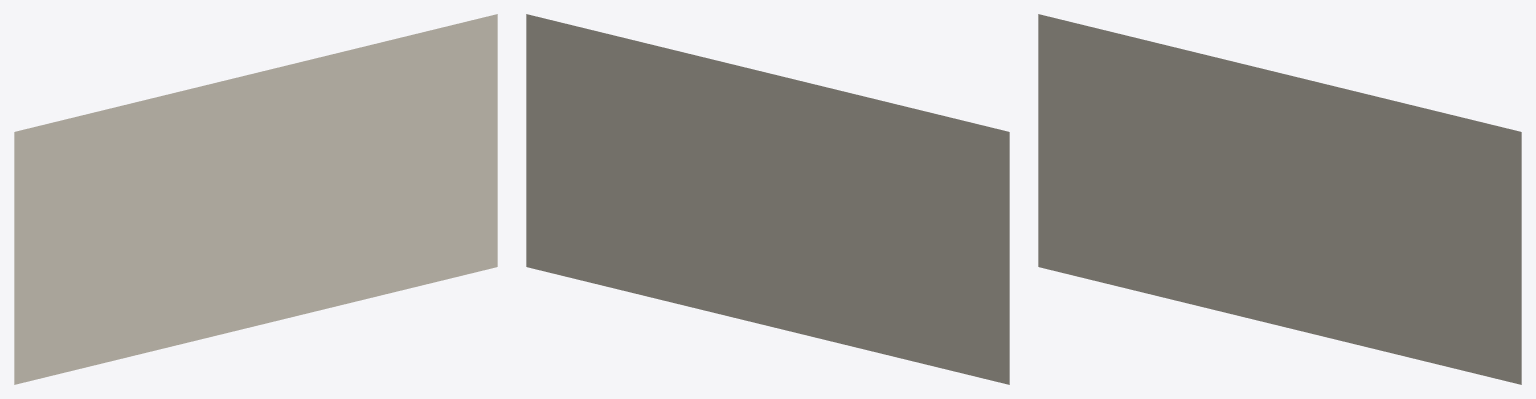
File: TranhTheu.glb
The picture shows the model from 3 angles, left to right: view 1: azimuth 30°, elevation 25°; view 2: azimuth 150°, elevation 25°; view 3: azimuth 330°, elevation 25°; orthographic projection.
Parts seen in each view (by area): view 1: geometry_0; view 2: geometry_0; view 3: geometry_0.
Boxes of the visible parts, x1,y1,x2,y2 form: geometry_0: (14, 14, 497, 384); geometry_0: (526, 14, 1009, 384); geometry_0: (1038, 14, 1521, 384).
Size of the model in its own units: 1 by 0.5 by 0.01.
